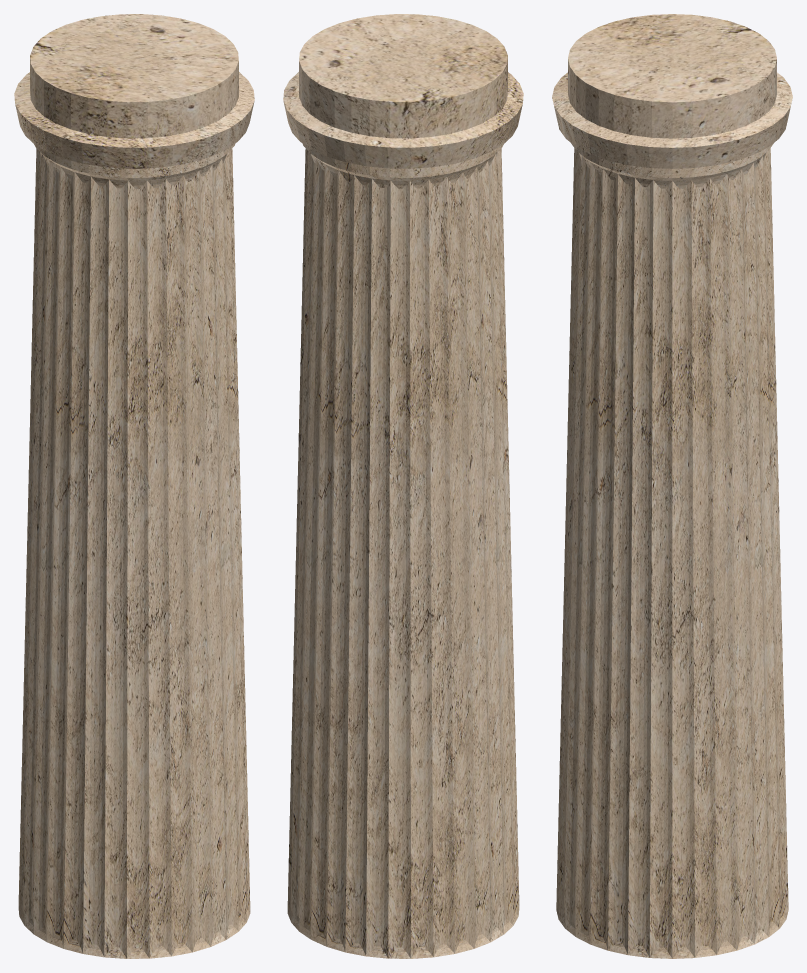
Rendered from colonna.fbx.
The picture shows the model from 3 angles, left to right: view 1: azimuth 30°, elevation 25°; view 2: azimuth 150°, elevation 25°; view 3: azimuth 270°, elevation 25°; orthographic projection.
Parts seen in each view (by area): view 1: Cylinder.002; view 2: Cylinder.002; view 3: Cylinder.002.
Boxes of the visible parts, x1=… form: Cylinder.002: x1=14, y1=14, x2=254, y2=958; Cylinder.002: x1=283, y1=14, x2=523, y2=958; Cylinder.002: x1=552, y1=14, x2=792, y2=958.
Size of the model in its own units: 649 by 2532 by 649.
